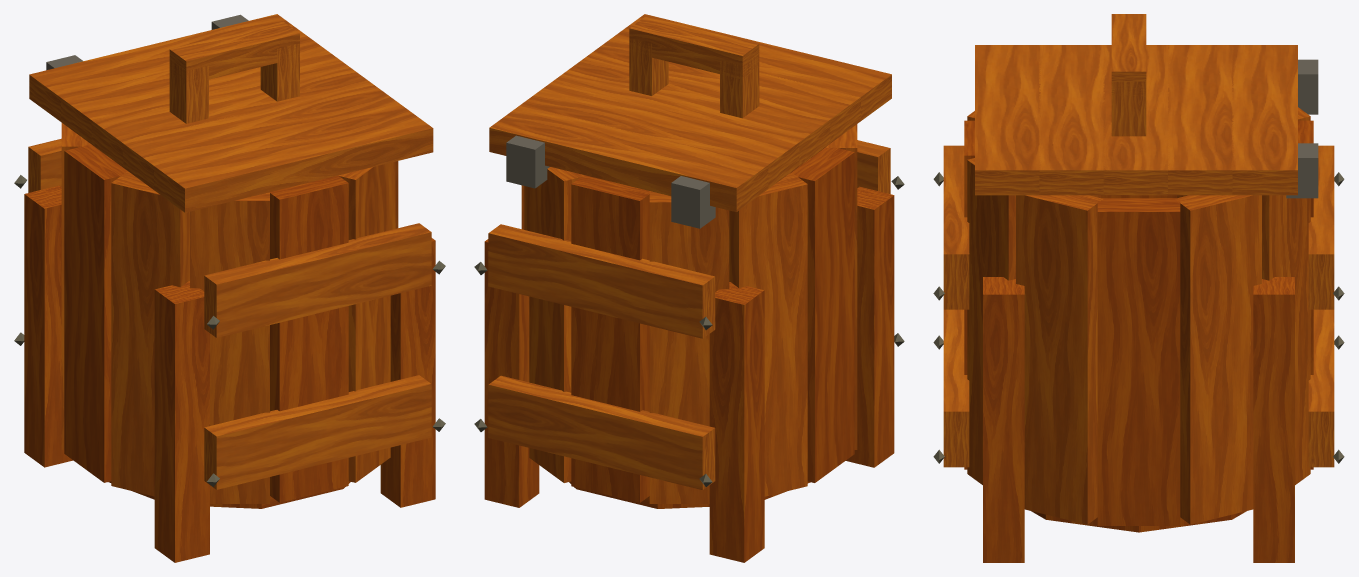
The model's file is compost-barrel-working.gltf.
The picture shows the model from 3 angles, left to right: view 1: azimuth 30°, elevation 25°; view 2: azimuth 150°, elevation 25°; view 3: azimuth 270°, elevation 25°; orthographic projection. The views are drawn at different scales.
Parts seen in each view (by area): view 1: compost-barrel-working; view 2: compost-barrel-working; view 3: compost-barrel-working.
Part boxes in pixels (x1=…): compost-barrel-working: x1=14, y1=14, x2=445, y2=562; compost-barrel-working: x1=474, y1=14, x2=904, y2=562; compost-barrel-working: x1=933, y1=14, x2=1344, y2=562.
Size of the model in its own units: 0.705 by 1.01 by 0.8304.
2 materials, 1 textured.
